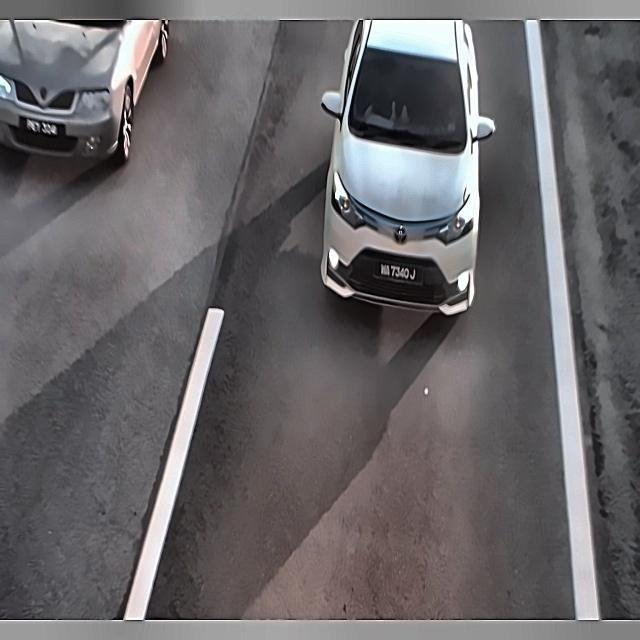car: (375, 256, 422, 288), (20, 119, 62, 141)
